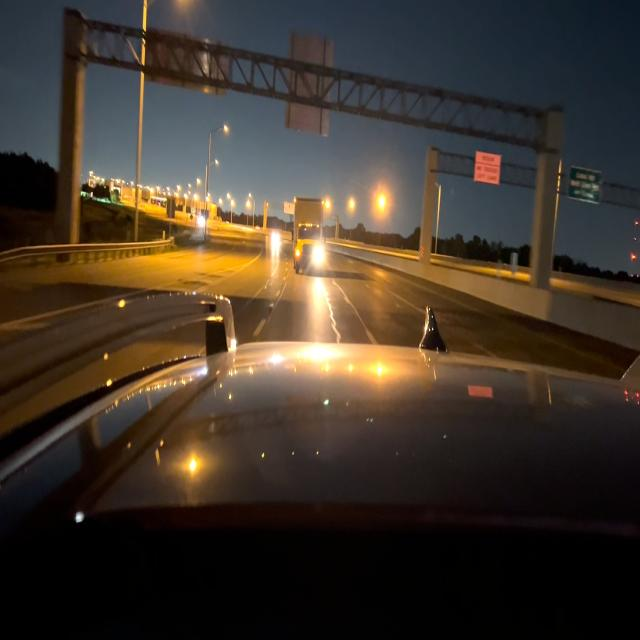back-of-sign: (145, 30, 227, 98), (290, 29, 328, 132)
